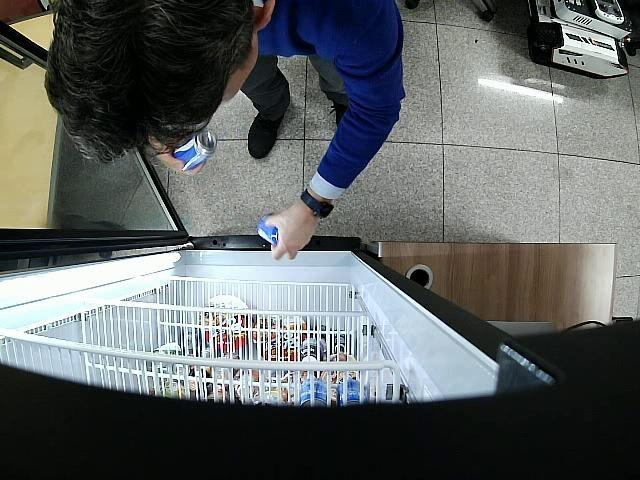13_pocariSweat: (173, 130, 217, 170), (258, 212, 278, 245)
